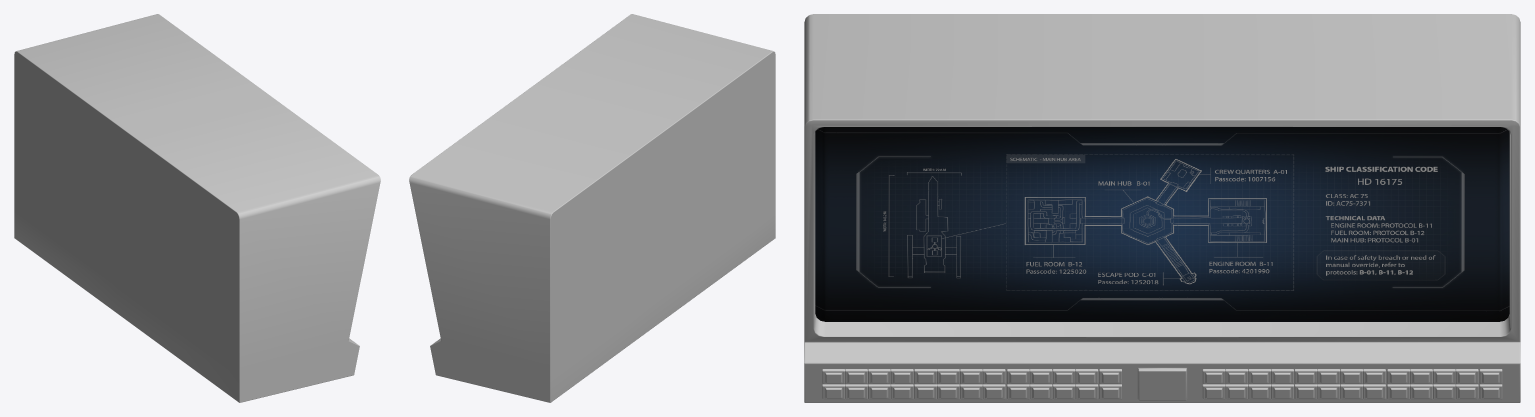
File: Hub_CompMonitor.fbx
The picture shows the model from 3 angles, left to right: view 1: azimuth 30°, elevation 25°; view 2: azimuth 150°, elevation 25°; view 3: azimuth 270°, elevation 25°; orthographic projection. The views are drawn at different scales.
Parts seen in each view (by area): view 1: Hub_CompMonitor.002; view 2: Hub_CompMonitor.002; view 3: Hub_CompMonitor.002.
Boxes of the visible parts, bbox=[...] form: Hub_CompMonitor.002: bbox=[14, 14, 380, 402]; Hub_CompMonitor.002: bbox=[409, 14, 775, 402]; Hub_CompMonitor.002: bbox=[804, 14, 1520, 402].
Size of the model in its own units: 170 by 79.79 by 61.96.
